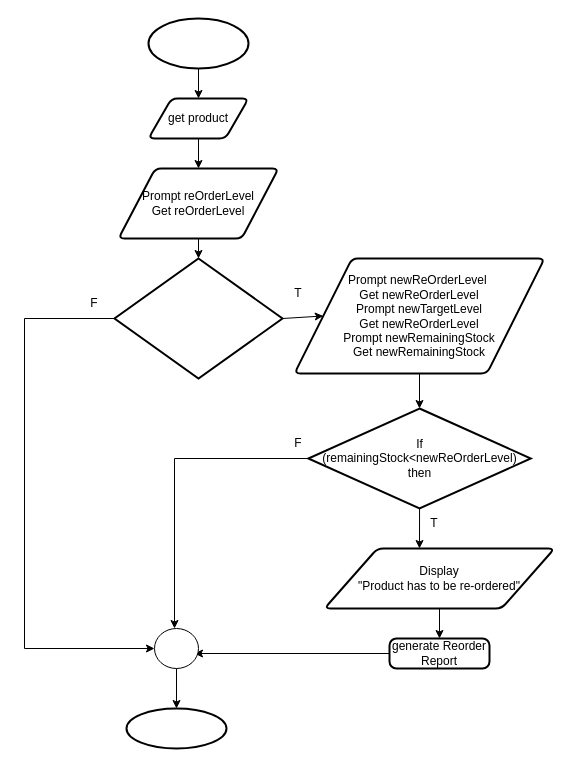
This 573x766 diagram has some shape labels left out. Each missing label, with the box of its shape:
If choice="update Reorder Level" then: (113, 257, 283, 379)
Start: (147, 17, 249, 69)
Stop.: (125, 707, 227, 749)
